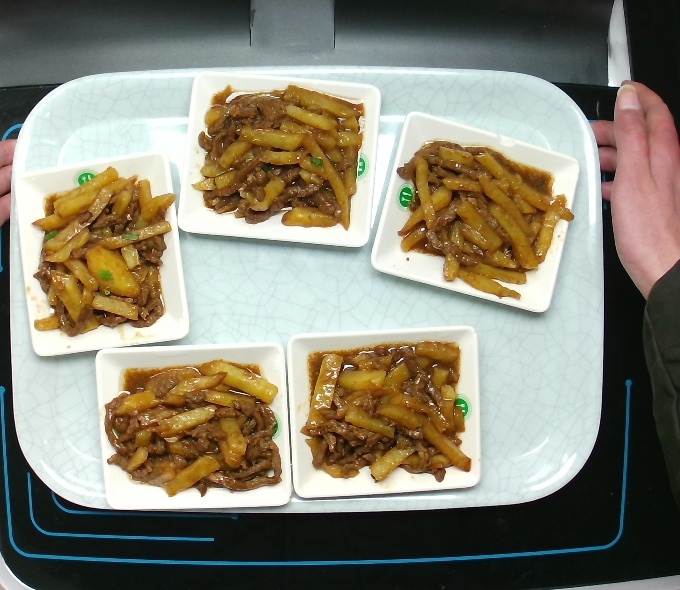wcq-TuDouNiuRou: (390, 130, 578, 306), (25, 162, 180, 350), (293, 333, 471, 490), (104, 352, 287, 504), (192, 76, 370, 231)
